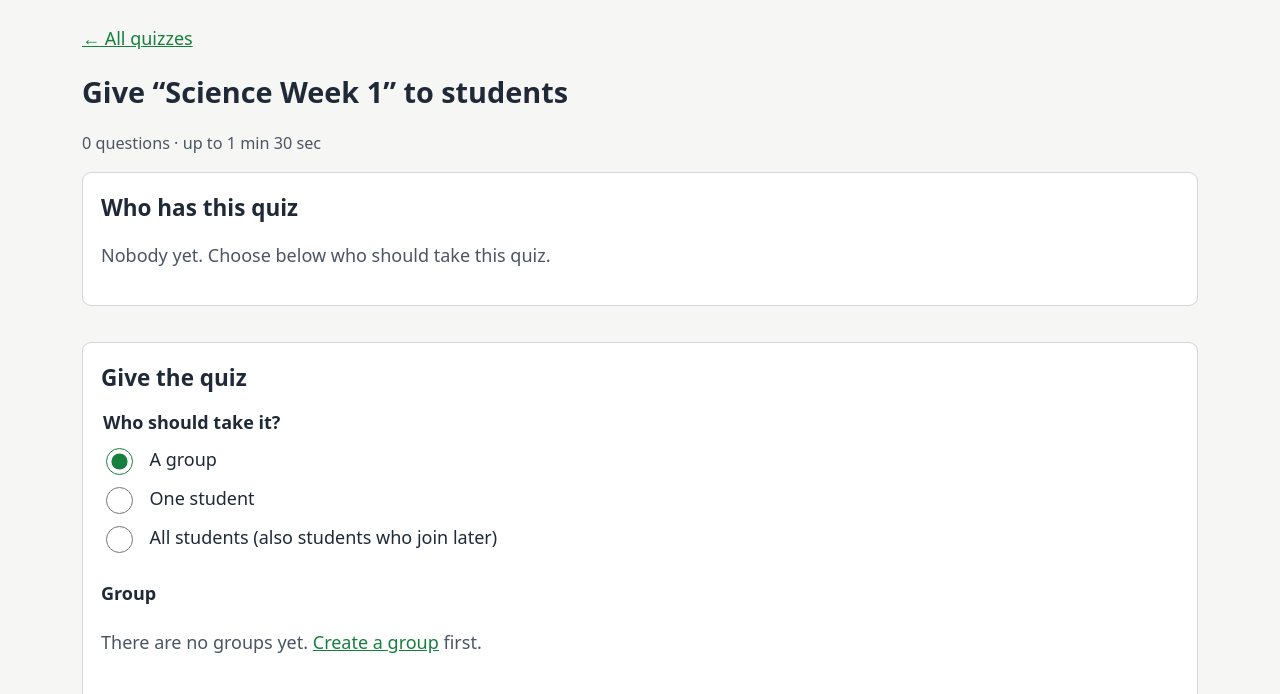
Scenario: assigning a quiz › gives a quiz to one chosen student
Click the radio button labelled "One student" at (120, 500), box x1=106 y1=487 x2=133 y2=514
(page scrolled)
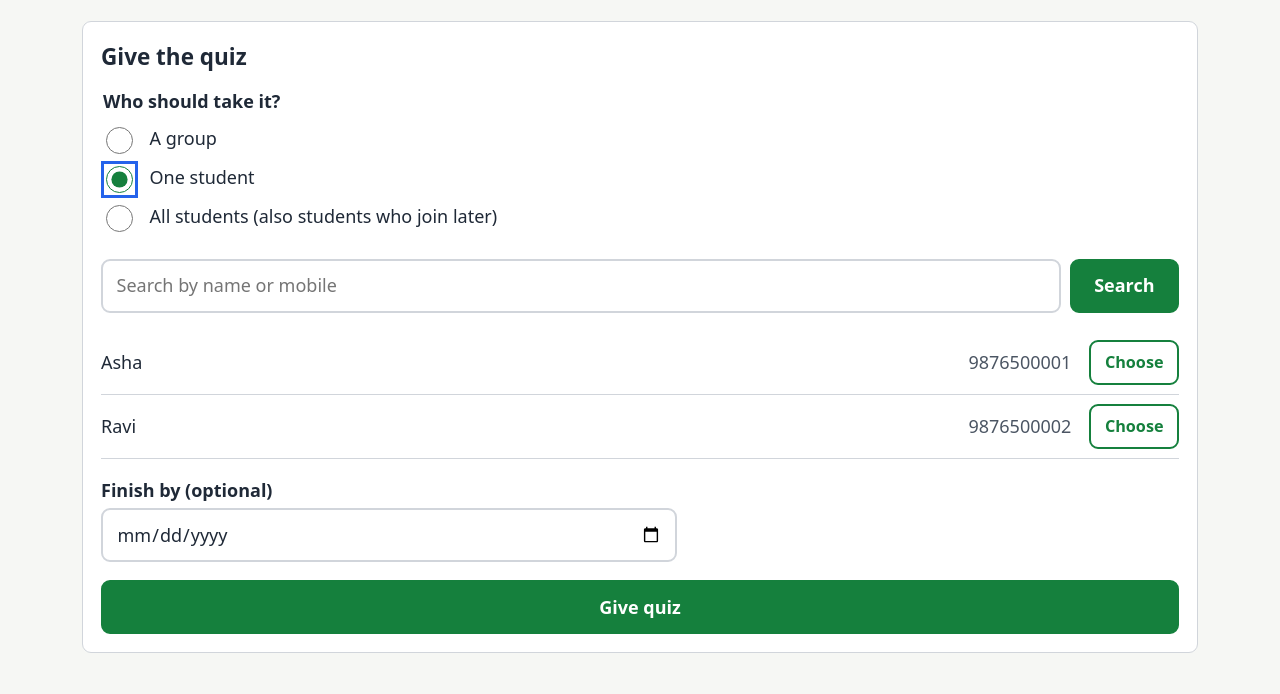
Click the button with aria-label "Choose: Ravi" at (1134, 426), box x1=1089 y1=404 x2=1179 y2=449
(page scrolled)
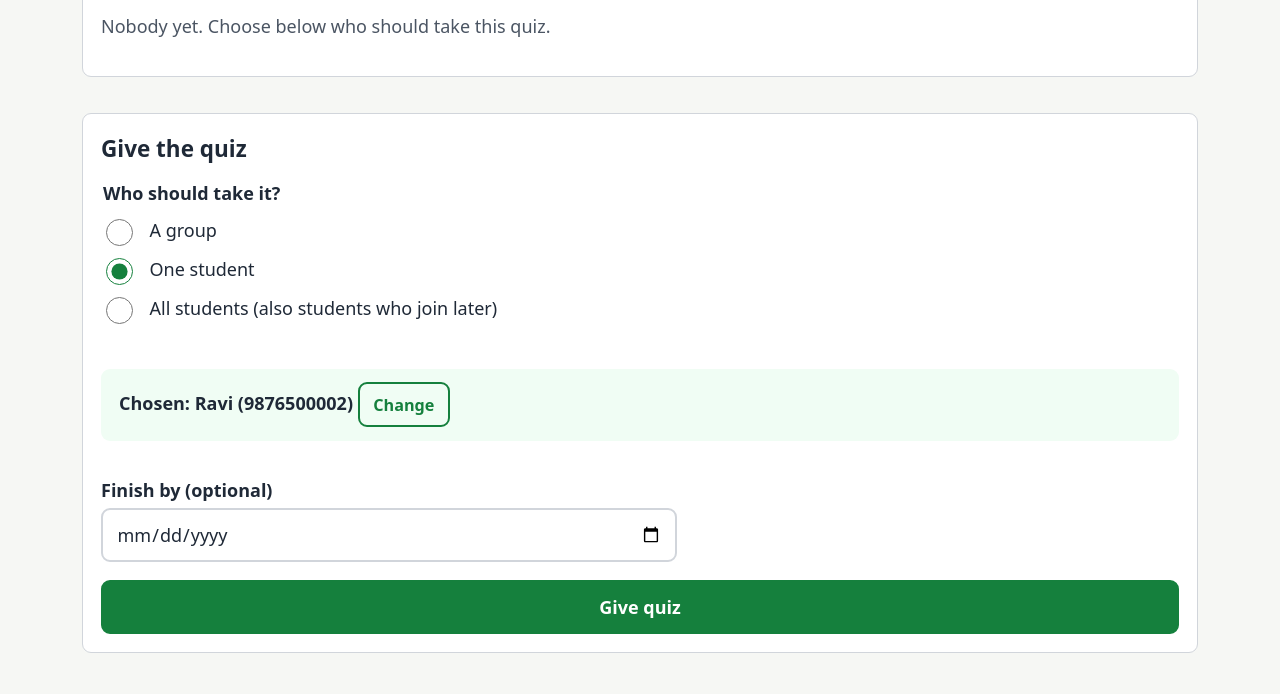
expect the text "Chosen: Ravi (9876500002) Change" is shown: met, box x1=101 y1=369 x2=1179 y2=441
Click the button "Give quiz" at (640, 607), box x1=101 y1=580 x2=1179 y2=634
(page scrolled)
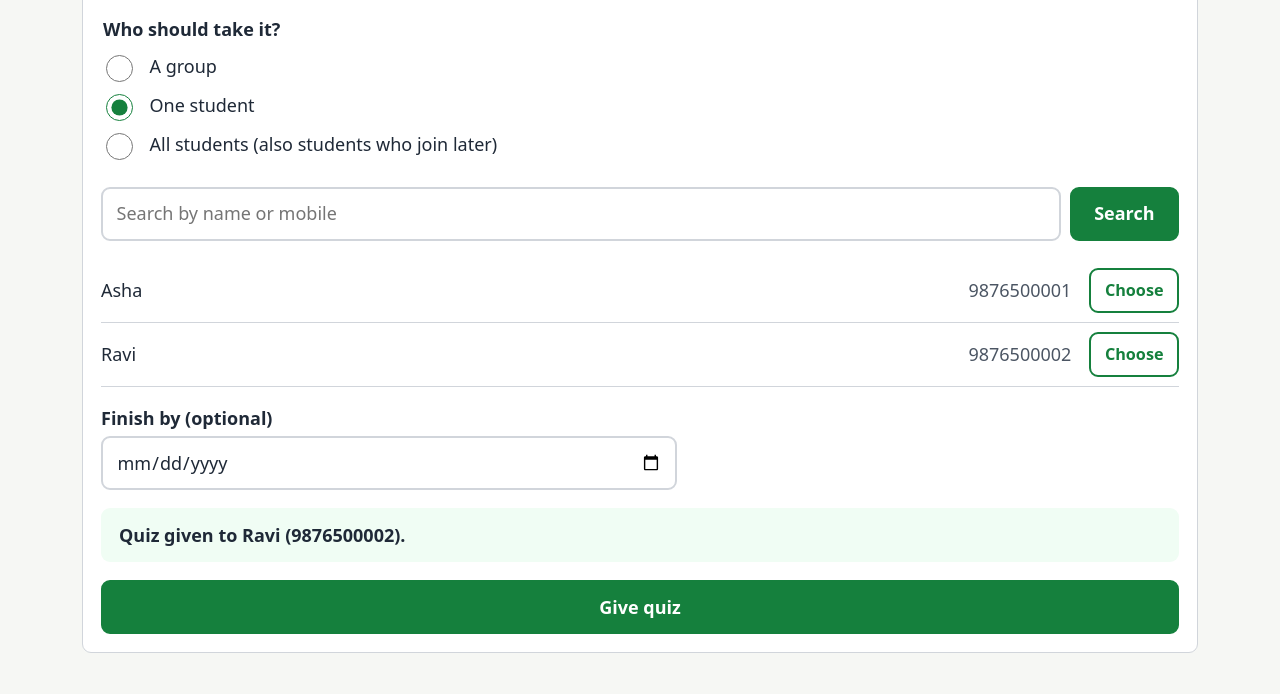
expect the message "Quiz given to Ravi (9876500002)." is shown: met, box x1=101 y1=508 x2=1179 y2=562
